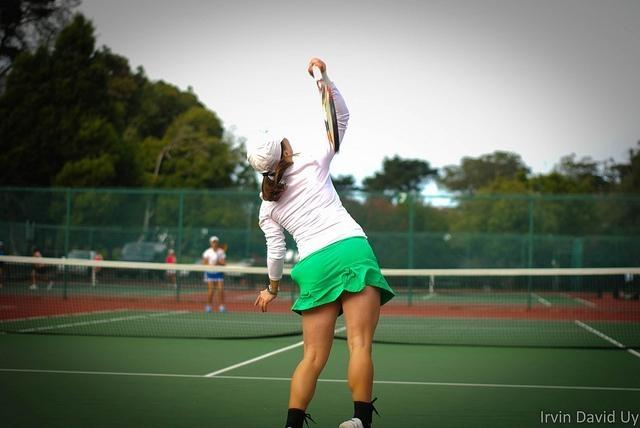car: (118, 242, 170, 263), (58, 250, 96, 278)
